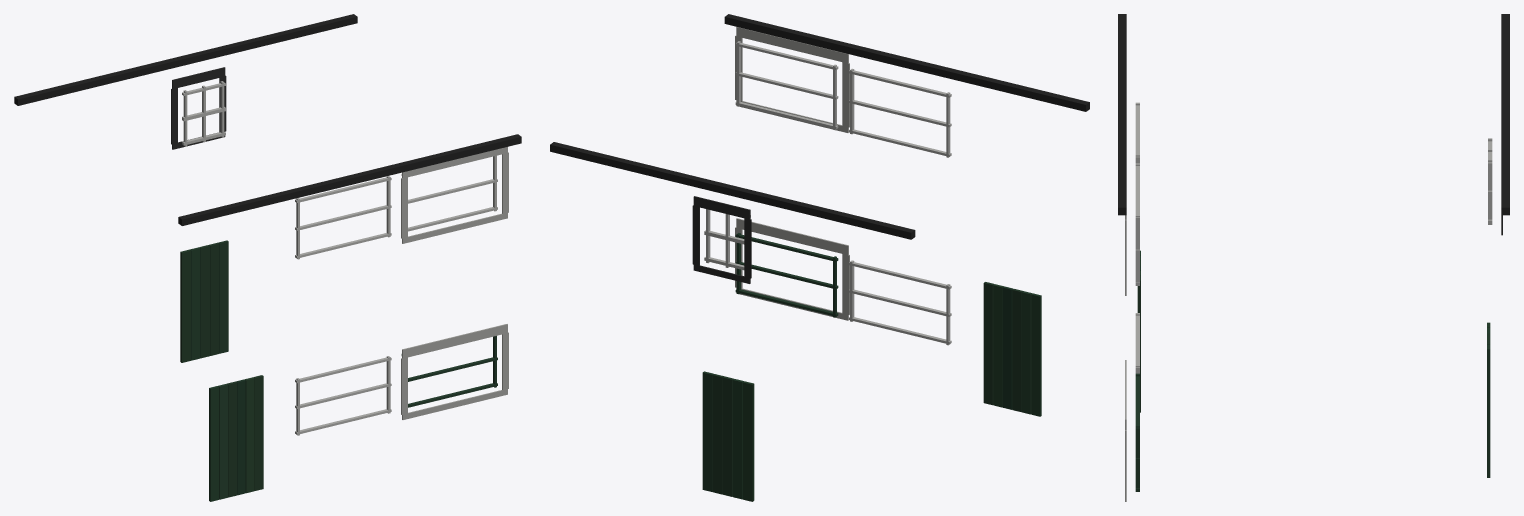
Rendered from SM_Bld_154_Wood.glb.
The picture shows the model from 3 angles, left to right: view 1: azimuth 30°, elevation 25°; view 2: azimuth 150°, elevation 25°; view 3: azimuth 270°, elevation 25°; orthographic projection. The views are drawn at different scales.
Parts seen in each view (by area): view 1: SM_Bld_154_Wood; view 2: SM_Bld_154_Wood; view 3: SM_Bld_154_Wood.
Boxes of the visible parts, x1,y1,x2,y2 form: SM_Bld_154_Wood: (14, 14, 521, 501); SM_Bld_154_Wood: (550, 14, 1089, 501); SM_Bld_154_Wood: (1118, 14, 1509, 501).
Size of the model in its own units: 6.45 by 5.4 by 5.52.
